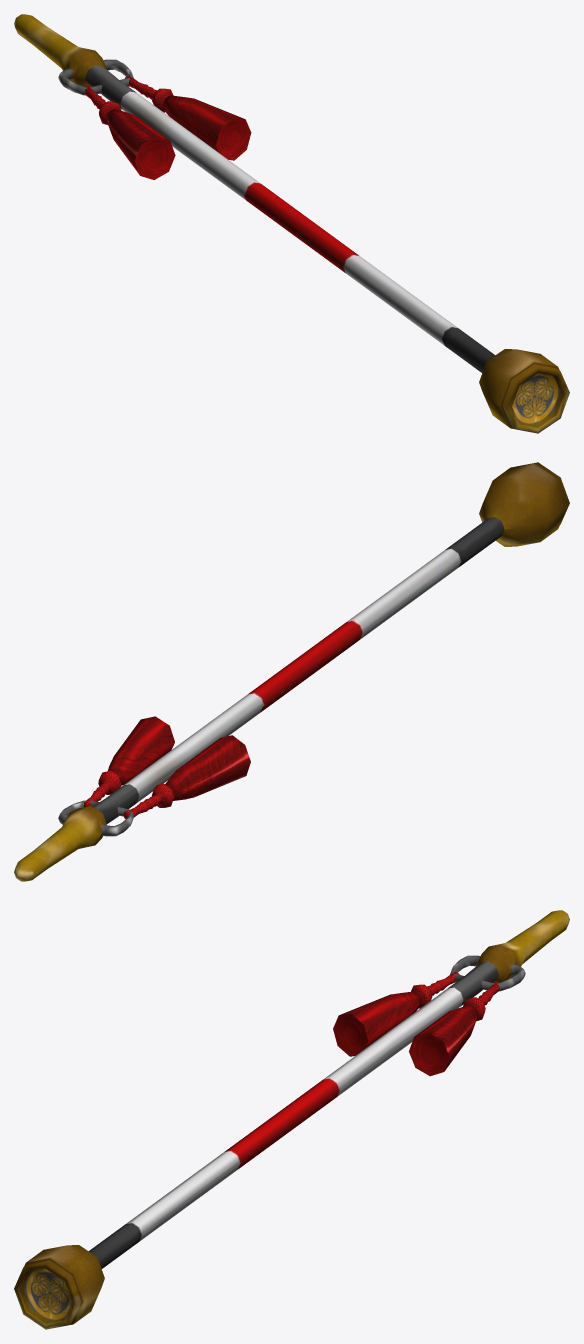
The model's file is ieyasu_weapon_stick.glb.
3 renders of one model, top to bottom at view 1: azimuth 30°, elevation 25°; view 2: azimuth 150°, elevation 25°; view 3: azimuth 330°, elevation 25°, orthographic.
Bounding box in the file's own units: 0.1061 × 0.0614 × 0.8191.
Materials: 1 (1 with a texture image).
